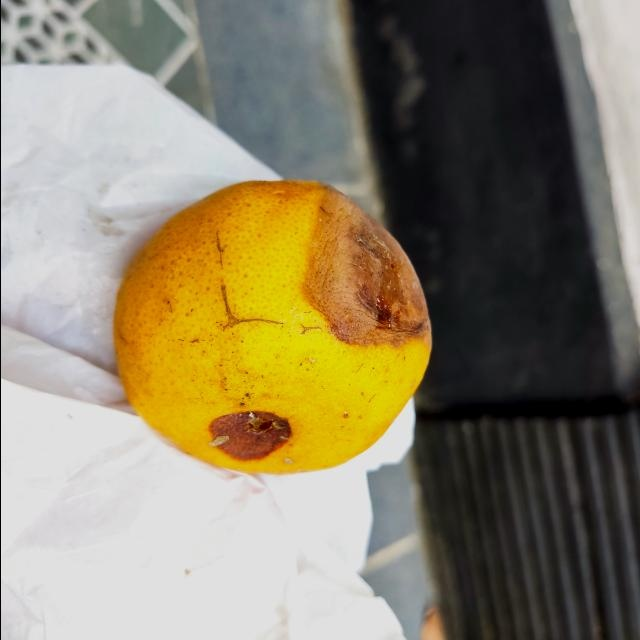agrume: (113, 178, 435, 474)
